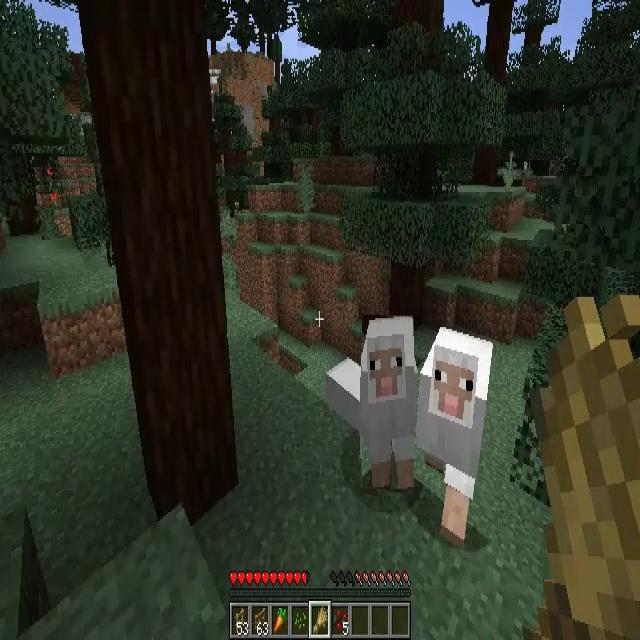sheep: (416, 326, 491, 534), (362, 315, 414, 489)
